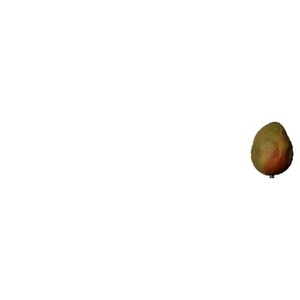mamão: (249, 120, 294, 175)
